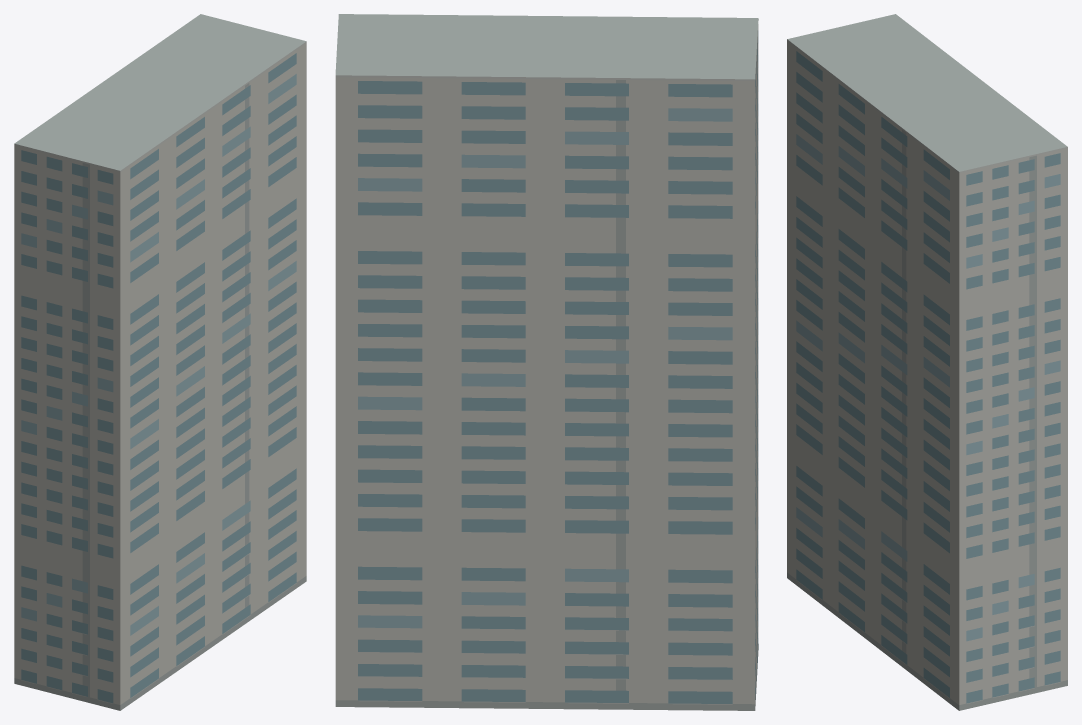
Rendered from residential-be246e3a-86f5-4bd9-ac8e-f90cc2784eba.glb.
3 renders of one model, left to right at view 1: azimuth 30°, elevation 25°; view 2: azimuth 150°, elevation 25°; view 3: azimuth 270°, elevation 25°, orthographic. The views are drawn at different scales.
Visible parts, largest first — view 1: residential-be246e3a-86f5-4bd9-ac8e-f90cc2784eba.tmp; view 2: residential-be246e3a-86f5-4bd9-ac8e-f90cc2784eba.tmp; view 3: residential-be246e3a-86f5-4bd9-ac8e-f90cc2784eba.tmp.
Part boxes in pixels (x1,y1,x2,y2): residential-be246e3a-86f5-4bd9-ac8e-f90cc2784eba.tmp: (14, 14, 306, 710); residential-be246e3a-86f5-4bd9-ac8e-f90cc2784eba.tmp: (335, 14, 758, 710); residential-be246e3a-86f5-4bd9-ac8e-f90cc2784eba.tmp: (787, 14, 1067, 710).
Size of the model in its own units: 52.16 by 83 by 39.18.
